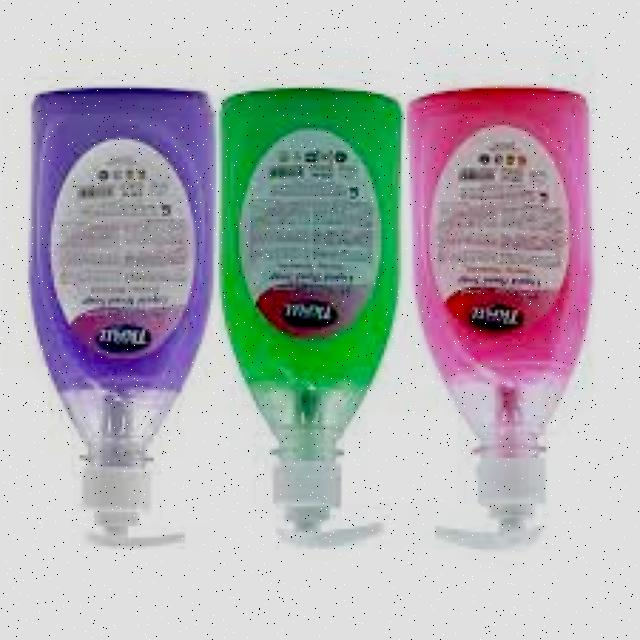liquid soap: (215, 85, 412, 561), (404, 81, 598, 555), (22, 89, 214, 557)
